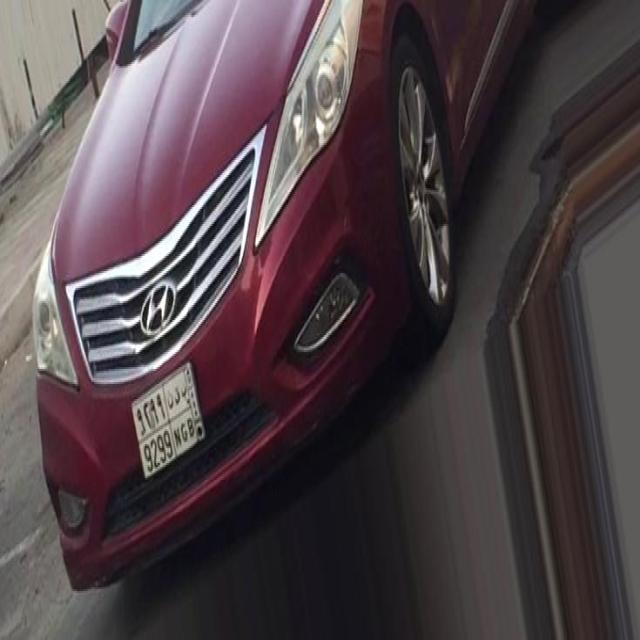Car-plate: (126, 343, 213, 498)
